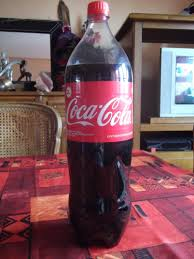coke: (71, 4, 137, 245)
